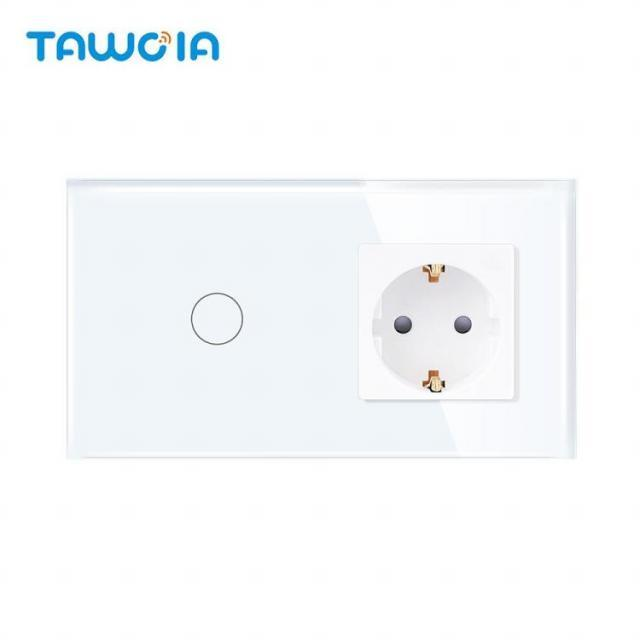typeb: (274, 154, 594, 474)
